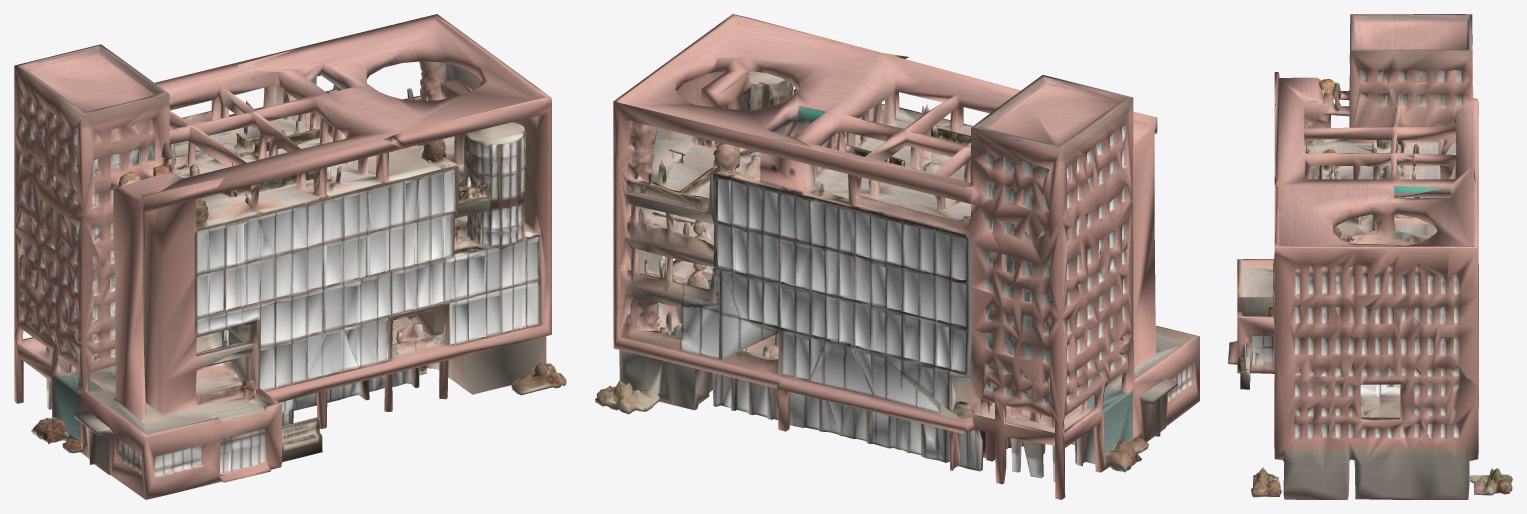
File: mirae.glb
3 renders of one model, left to right at view 1: azimuth 30°, elevation 25°; view 2: azimuth 150°, elevation 25°; view 3: azimuth 270°, elevation 25°, orthographic. The views are drawn at different scales.
Visible parts, largest first — view 1: Mesh_0.007; view 2: Mesh_0.007; view 3: Mesh_0.007.
Boxes of the visible parts, x1,y1,x2,y2 form: Mesh_0.007: [14, 14, 566, 499]; Mesh_0.007: [595, 14, 1199, 499]; Mesh_0.007: [1228, 14, 1512, 499].
Size of the model in its own units: 54.39 by 39 by 33.35.
1 material, 1 textured.
